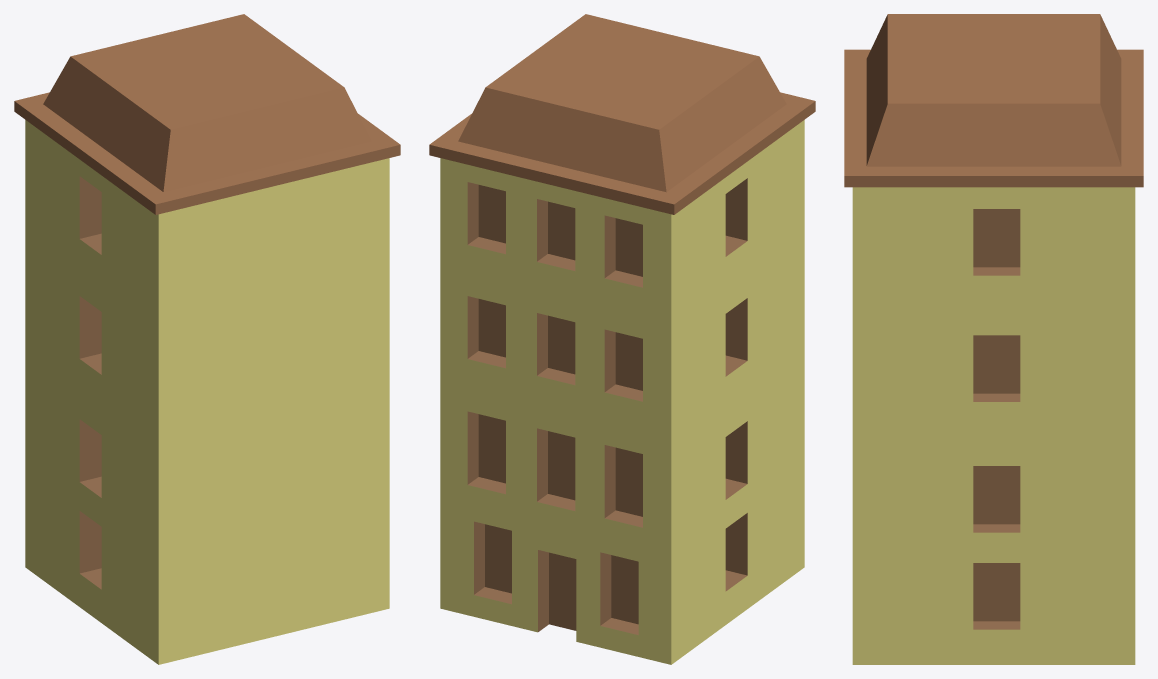
Rendered from building 3.fbx.
3 views of the same model, side by side, from view 1: azimuth 30°, elevation 25°; view 2: azimuth 150°, elevation 25°; view 3: azimuth 270°, elevation 25° (orthographic). The views are drawn at different scales.
Visible parts, largest first — view 1: Cube.367; view 2: Cube.367; view 3: Cube.367.
Part boxes in pixels (x1,y1,x2,y2): Cube.367: (14, 14, 400, 664); Cube.367: (429, 14, 815, 664); Cube.367: (844, 14, 1143, 664).
Size of the model in its own units: 14.8 by 29.79 by 14.8.
Materials: 1 (1 with a texture image).
